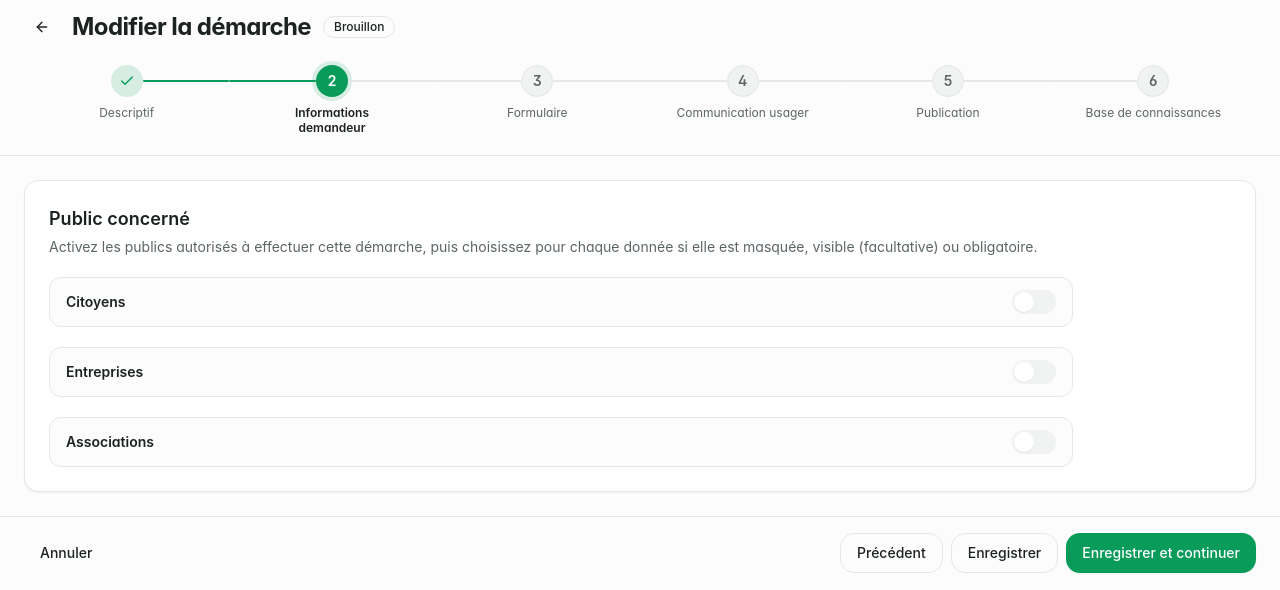
Test: ProcedureEditor — pied de page du stepper › « Enregistrer » enregistre sans avancer et confirme sur place
The width and height of the screenshot is (1280, 590).
Click the button "Enregistrer" at (1005, 553), box [951,533,1058,573]
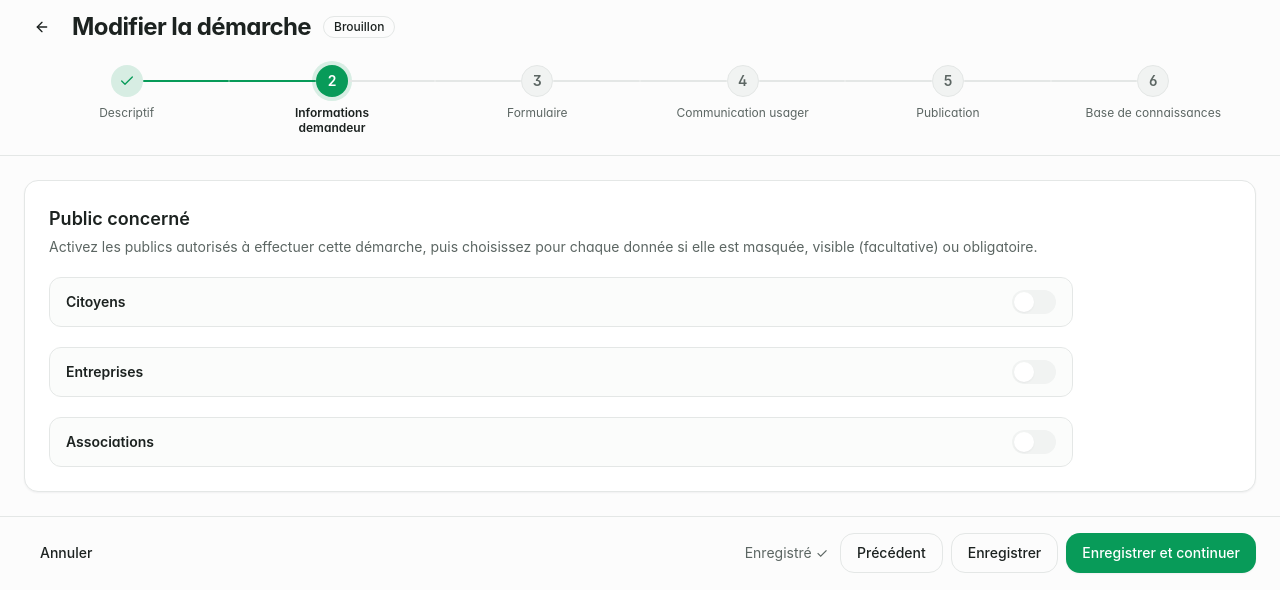
Now the message shows "Enregistré", box [745,544,828,561]
